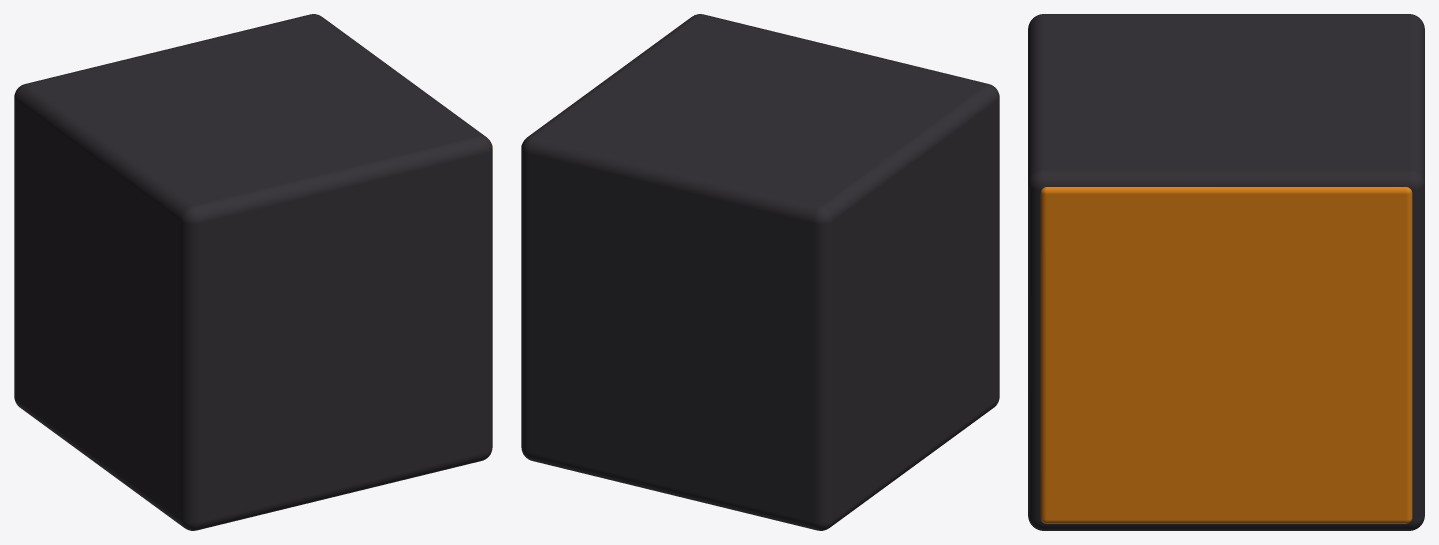
The model's file is oCenter.obj.
3 views of the same model, side by side, from view 1: azimuth 30°, elevation 25°; view 2: azimuth 150°, elevation 25°; view 3: azimuth 270°, elevation 25° (orthographic). The views are drawn at different scales.
Visible parts, largest first — view 1: 000_Base; view 2: 000_Base; view 3: 001_orange, 000_Base.
Boxes of the visible parts, left/top/right/bottom form: 000_Base: left=14, top=14, right=492, bottom=530; 000_Base: left=521, top=14, right=999, bottom=530; 001_orange: left=1040, top=187, right=1412, bottom=523; 000_Base: left=1028, top=14, right=1424, bottom=530.
Bounding box in the file's own units: 101 × 100 × 100.
